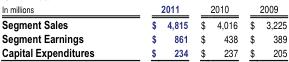table: (1, 0, 286, 59)
table column: (1, 0, 122, 59), (122, 0, 193, 59), (193, 0, 243, 59), (243, 0, 286, 59)
table column header: (1, 0, 286, 16)
table row: (1, 0, 286, 16), (1, 16, 286, 31), (1, 31, 286, 45), (1, 45, 286, 59)
